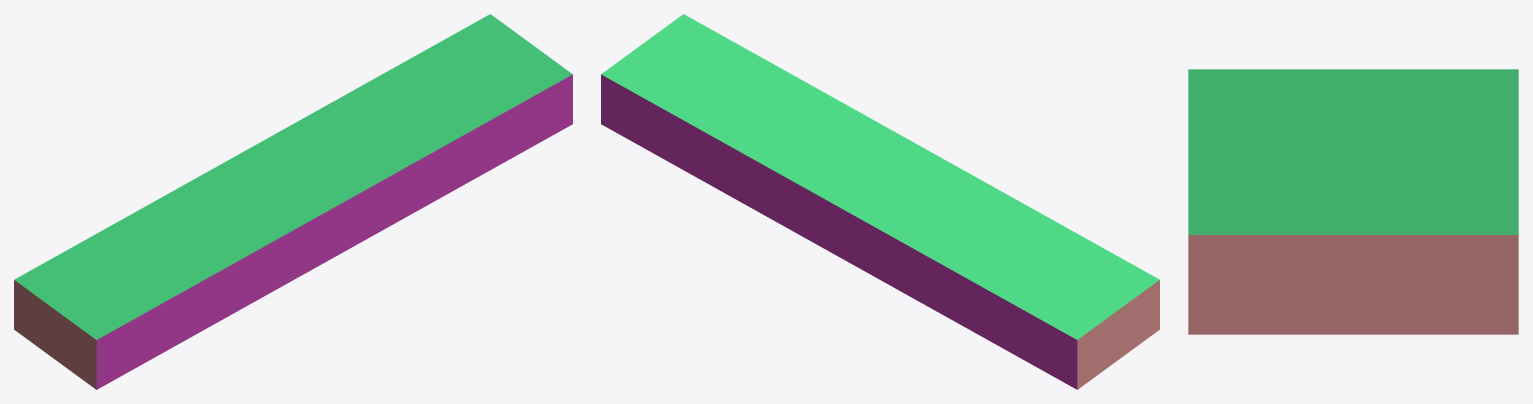
File: floor r3.FBX
3 renders of one model, left to right at view 1: azimuth 30°, elevation 25°; view 2: azimuth 150°, elevation 25°; view 3: azimuth 270°, elevation 25°, orthographic. The views are drawn at different scales.
Parts seen in each view (by area): view 1: floor r3; view 2: floor r3; view 3: floor r3.
Part boxes in pixels (<box>): floor r3: <box>14,14,572,389</box>; floor r3: <box>601,14,1159,389</box>; floor r3: <box>1188,69,1518,334</box>.
Size of the model in its own units: 0.508 by 0.2032 by 0.1524.
